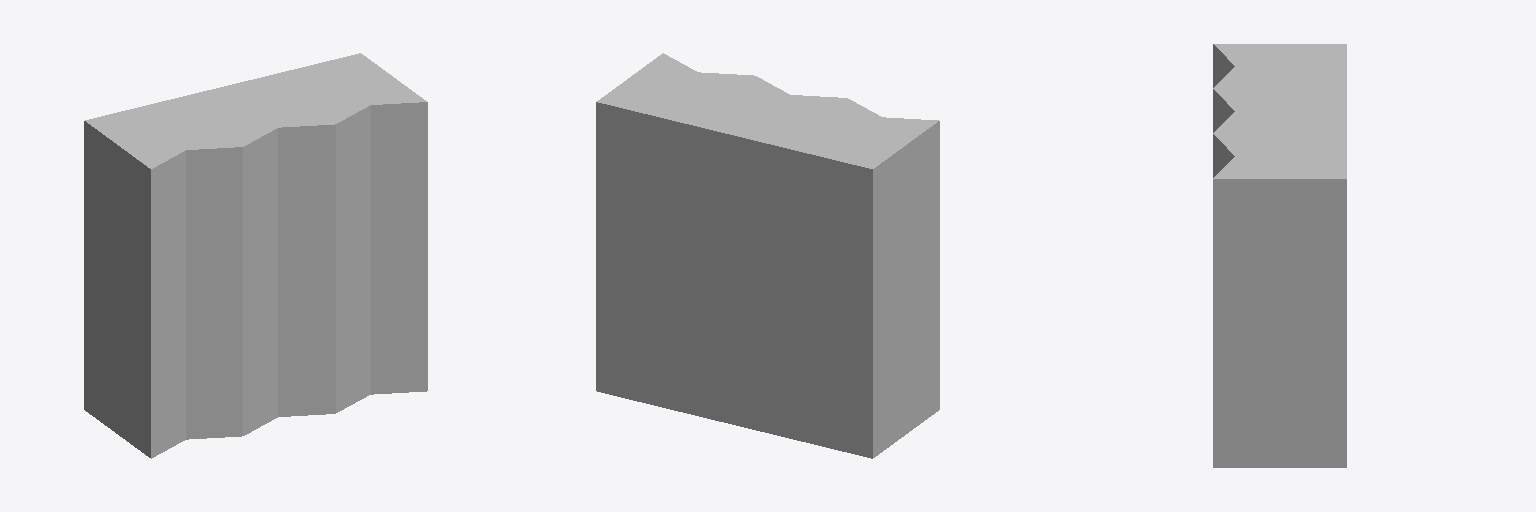
File: cliff_large_rock.obj
The picture shows the model from 3 angles: view 1: azimuth 30°, elevation 25°; view 2: azimuth 150°, elevation 25°; view 3: azimuth 270°, elevation 25°; orthographic projection.
Parts seen in each view (by area): view 1: cliff_large_rock; view 2: cliff_large_rock; view 3: cliff_large_rock.
Part boxes in pixels (left/top/right/bottom): cliff_large_rock: left=84, top=53, right=427, bottom=458; cliff_large_rock: left=596, top=53, right=939, bottom=458; cliff_large_rock: left=1213, top=44, right=1346, bottom=467.
Size of the model in its own units: 1 by 1 by 0.4185.